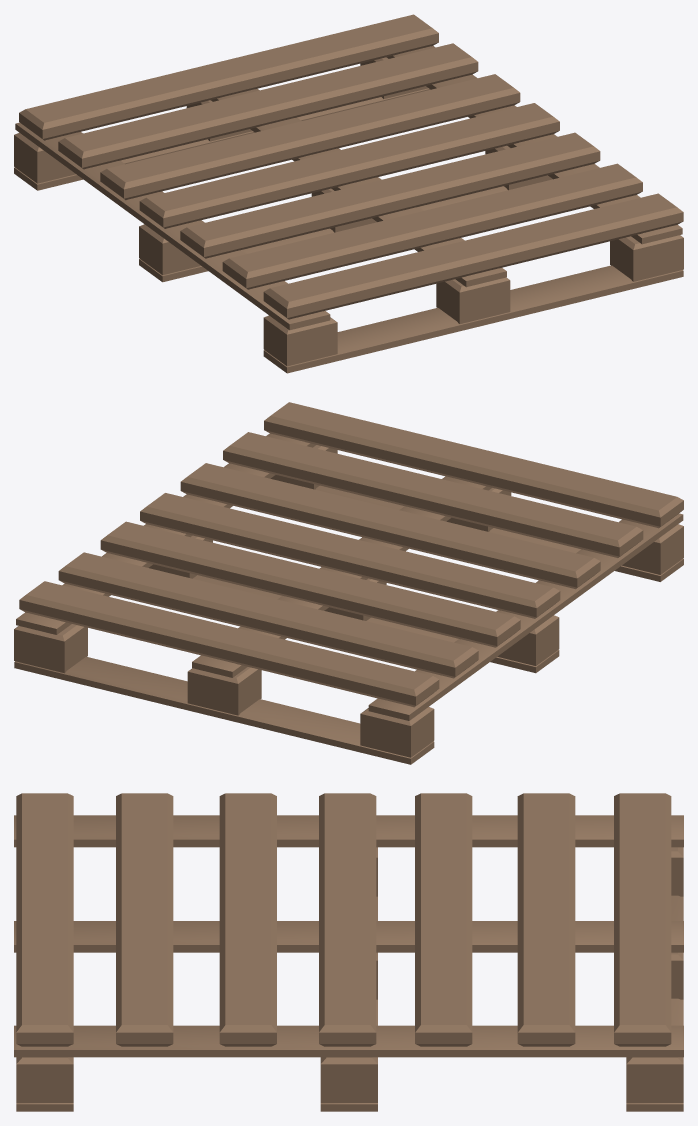
Rendered from props_51.glb.
3 views of the same model, one above another, from view 1: azimuth 30°, elevation 25°; view 2: azimuth 150°, elevation 25°; view 3: azimuth 270°, elevation 25° (orthographic). The views are drawn at different scales.
Visible parts, largest first — view 1: props_51; view 2: props_51; view 3: props_51.
Boxes of the visible parts, left/top/right/bottom form: props_51: left=14, top=14, right=683, bottom=373; props_51: left=14, top=402, right=683, bottom=764; props_51: left=14, top=793, right=683, bottom=1111.
Size of the model in its own units: 2.4 by 0.4085 by 2.87.
1 material, 1 textured.
